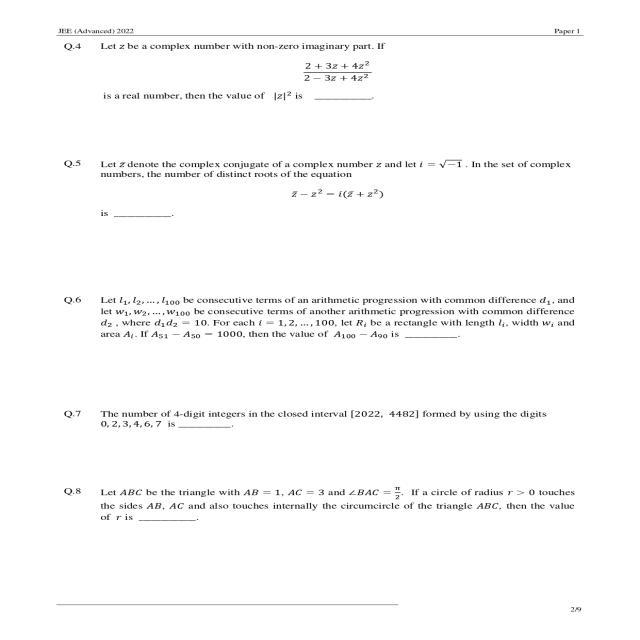Question_Answer_Block: (54, 145, 599, 239), (54, 270, 599, 362), (54, 36, 599, 118), (54, 468, 599, 534), (54, 389, 599, 451)
Question_Block: (54, 145, 599, 239), (54, 270, 599, 362), (54, 36, 599, 118), (54, 468, 599, 534), (54, 389, 599, 451)
Question_Paper_Area: (54, 32, 599, 576)
